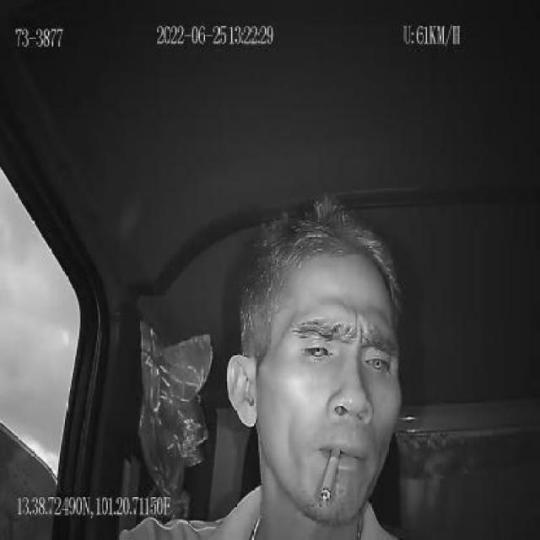smoking: (320, 446, 341, 506)
